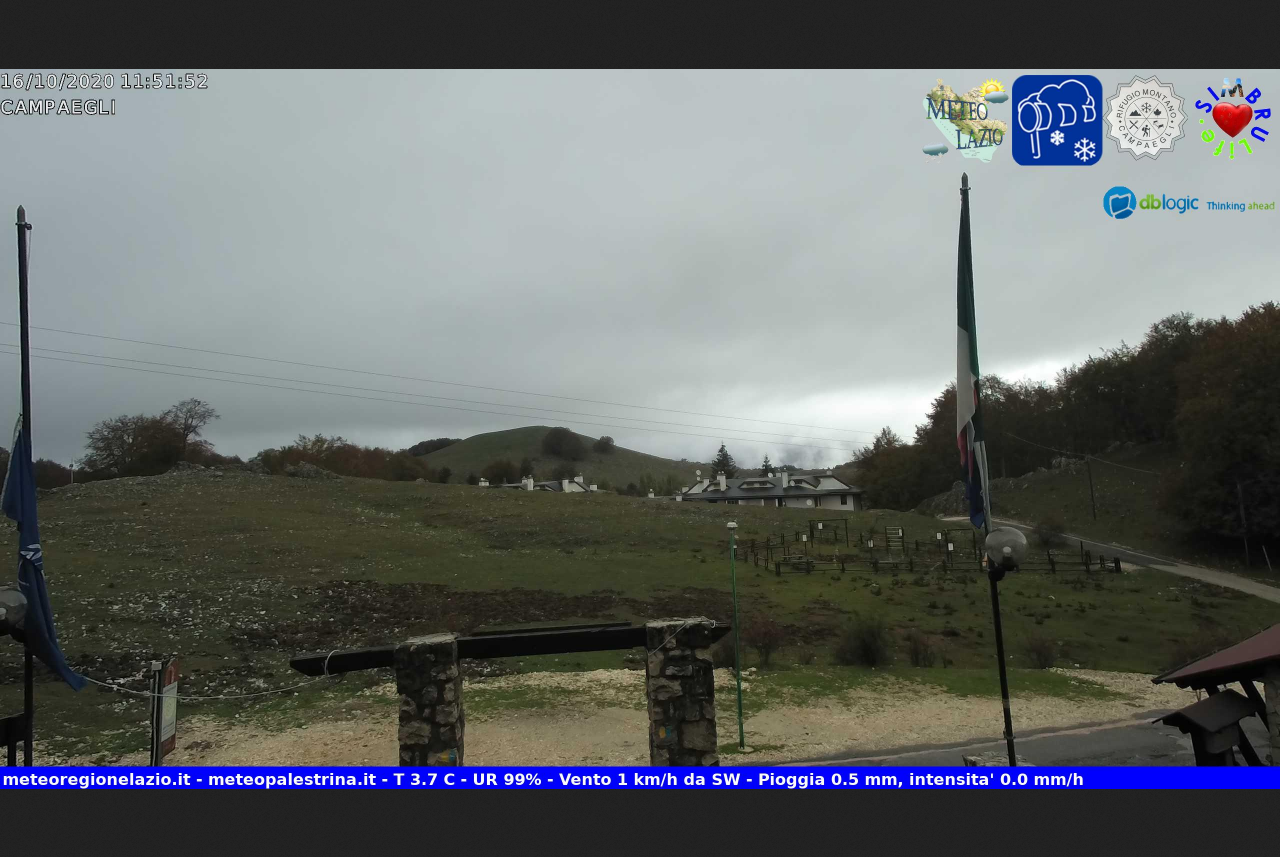no: (939, 161, 1024, 550)
